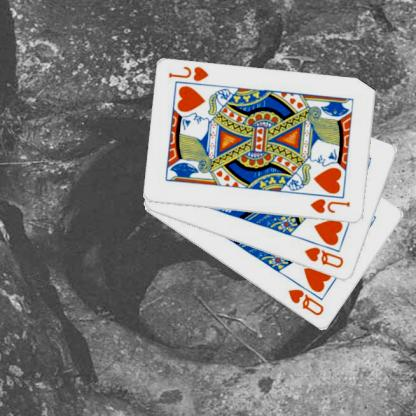JH: (168, 64, 212, 83), (310, 197, 354, 215)
QH: (287, 286, 327, 318), (304, 244, 348, 270)
